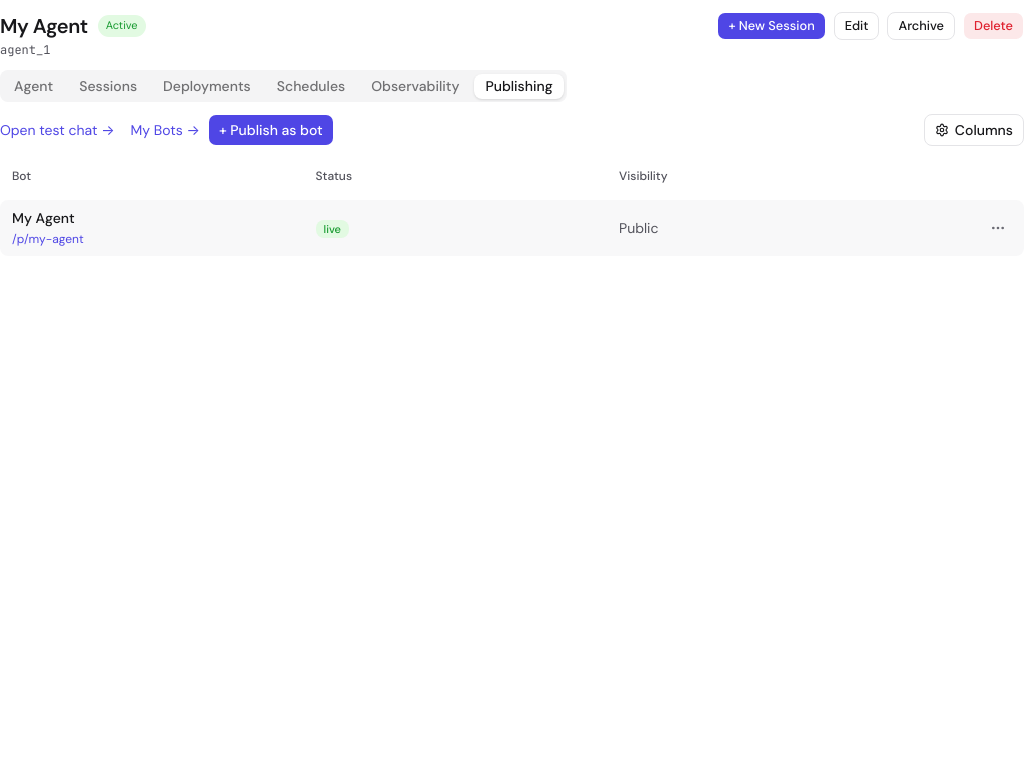
Test case: <AgentPublishingTab /> › edits a published bot's title/description/greeting/visibility/slug (issue #237)
Check: the text "live" is shown, box [316,220,349,238]
Click the button named "Actions for My Agent" at {"x": 998, "y": 228}, box [984,214,1012,242]
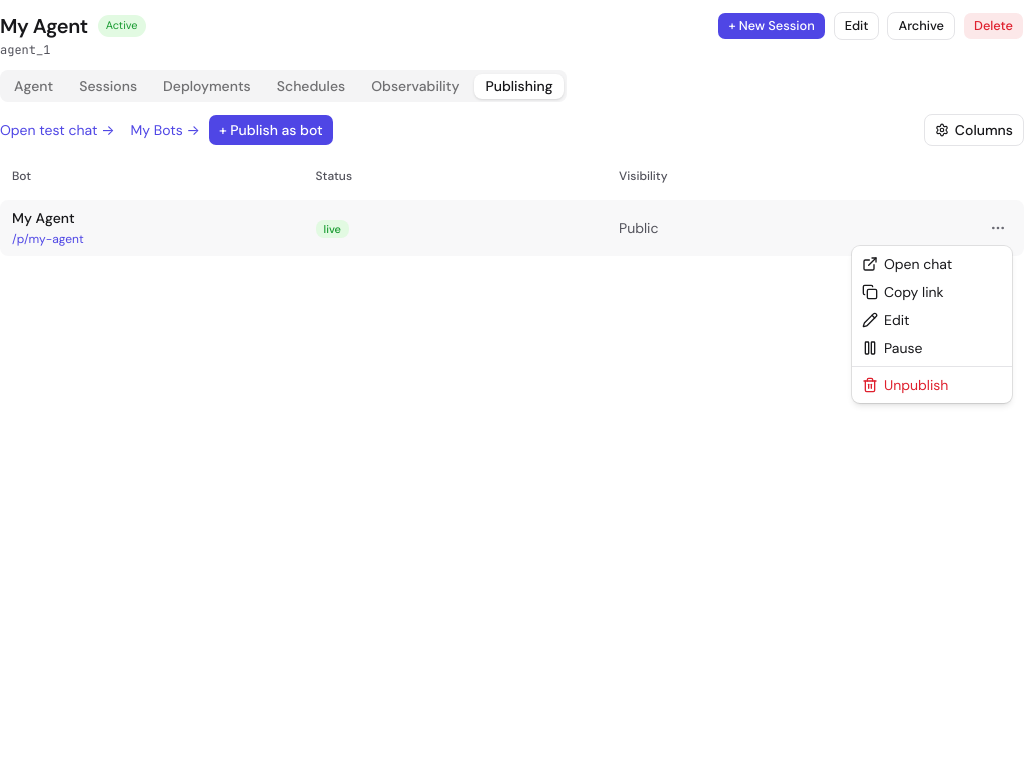
Click the menu item "Edit" at {"x": 886, "y": 320}, box [862,311,910,329]
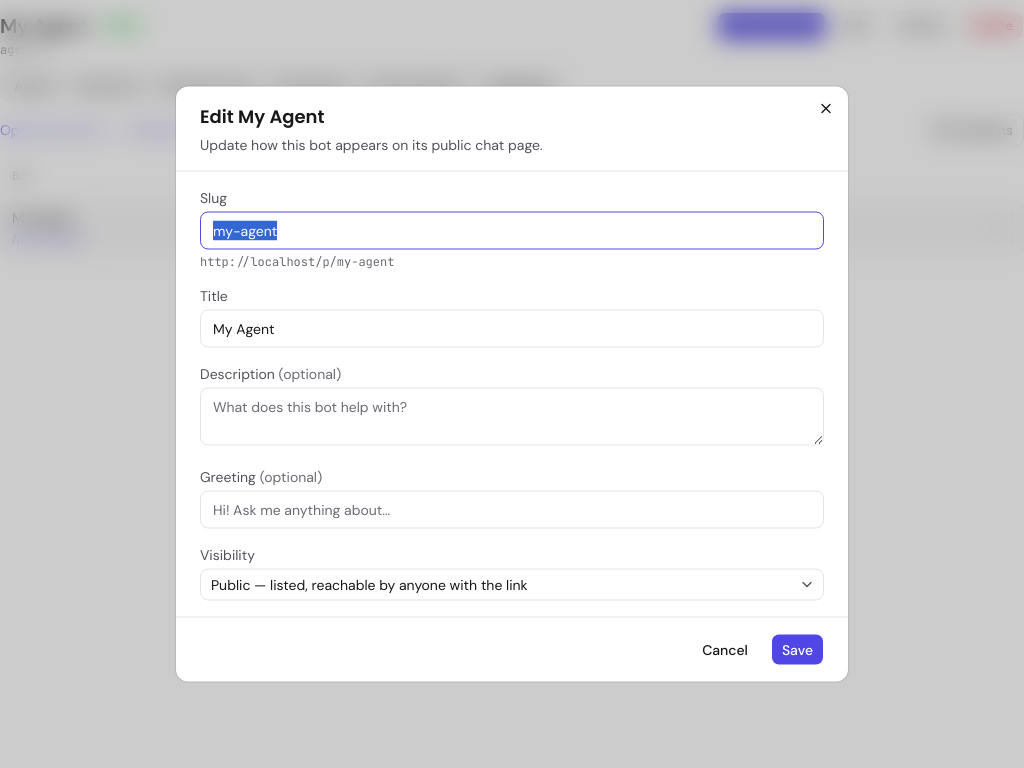
Check: the heading "Edit My Agent" is shown, box [200,104,324,128]
Check: the field showing "my-agent" is shown, box [200,212,824,250]
Check: the field showing "My Agent" is shown
Replace the text in the field showing "My Agent" with "Renamed Bot" at {"x": 512, "y": 328}, box [200,310,824,348]
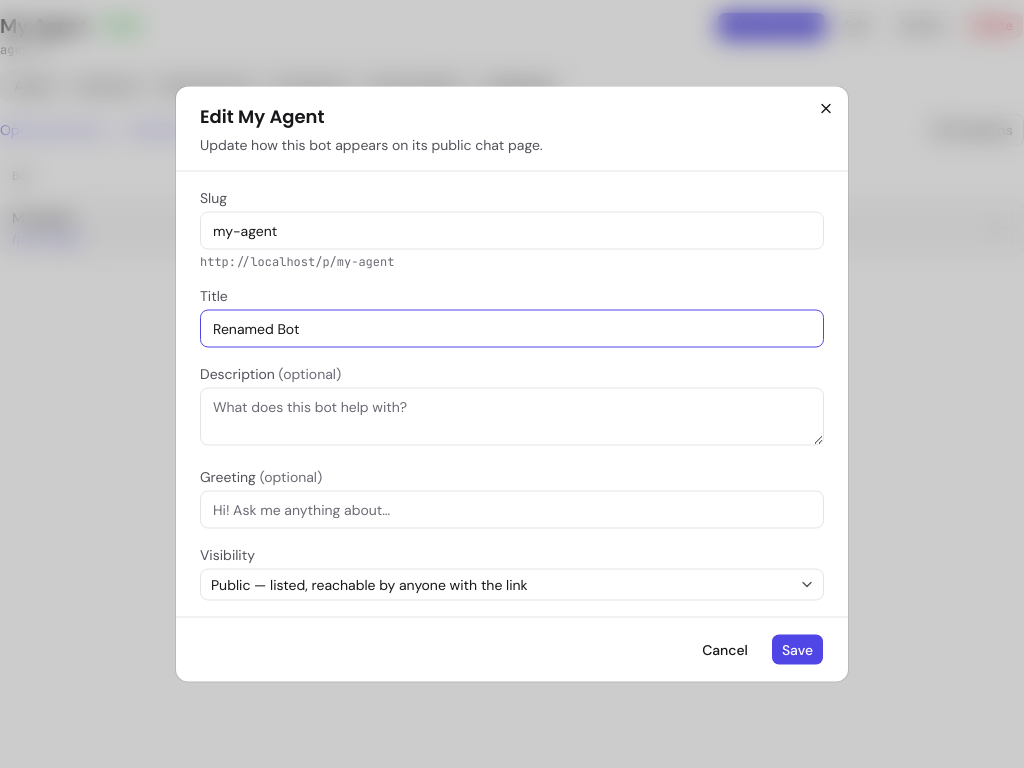
Click the button "Save" at {"x": 797, "y": 650}, box [771,634,824,666]
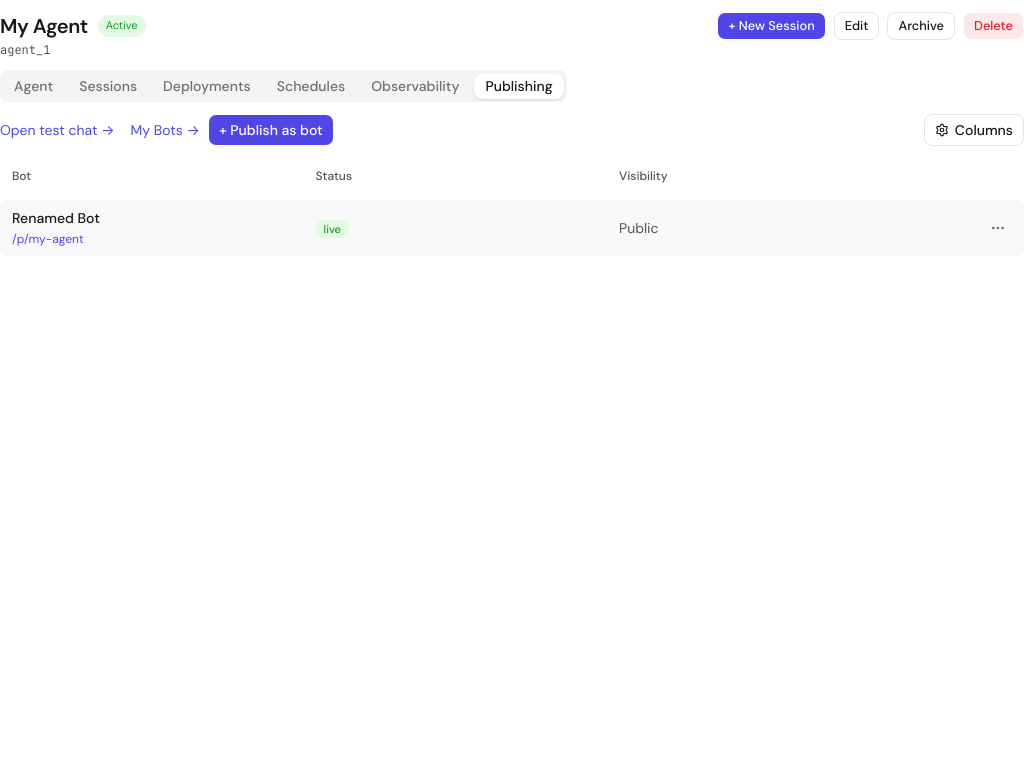
Check: the heading "Edit My Agent" is gone
Check: the text "Renamed Bot" is shown, box [12,209,100,227]
